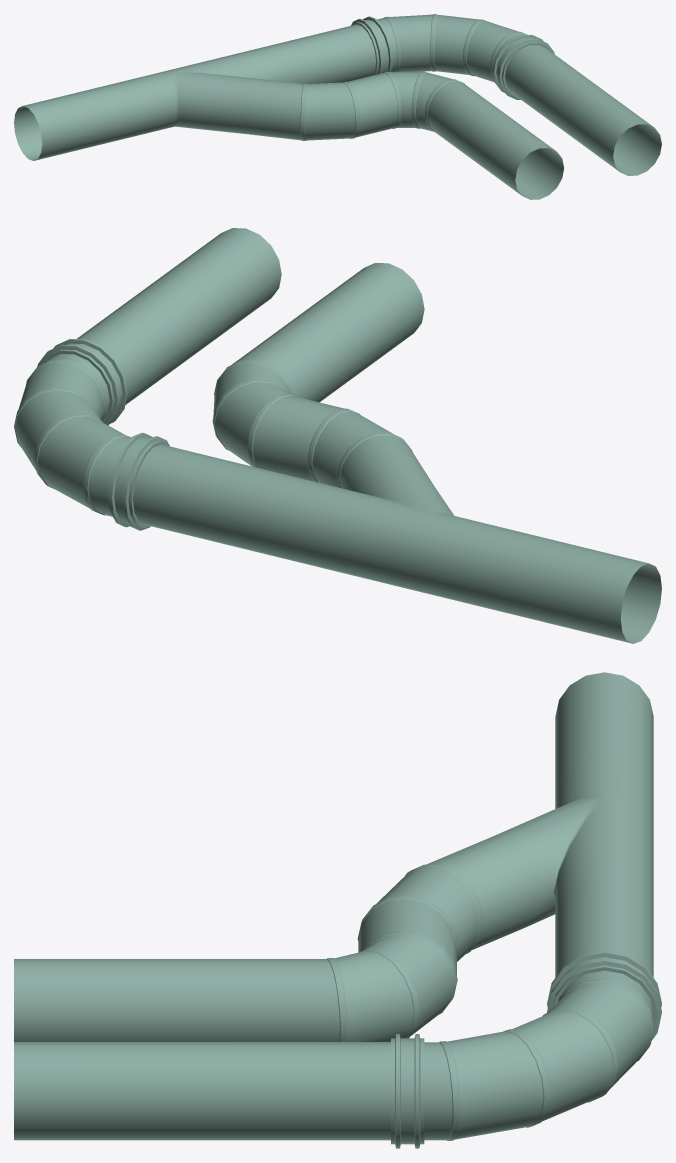
The model's file is PipeComplexLarge_B_01.fbx.
3 renders of one model, top to bottom at view 1: azimuth 30°, elevation 25°; view 2: azimuth 150°, elevation 25°; view 3: azimuth 270°, elevation 25°, orthographic. The views are drawn at different scales.
Parts seen in each view (by area): view 1: PipeComplexLarge_B_01.001; view 2: PipeComplexLarge_B_01.001; view 3: PipeComplexLarge_B_01.001.
Boxes of the visible parts, x1,y1,x2,y2 form: PipeComplexLarge_B_01.001: (14,14,661,199); PipeComplexLarge_B_01.001: (14,228,661,643); PipeComplexLarge_B_01.001: (14,672,661,1148).
Size of the model in its own units: 1.92 by 0.2334 by 1.32.
